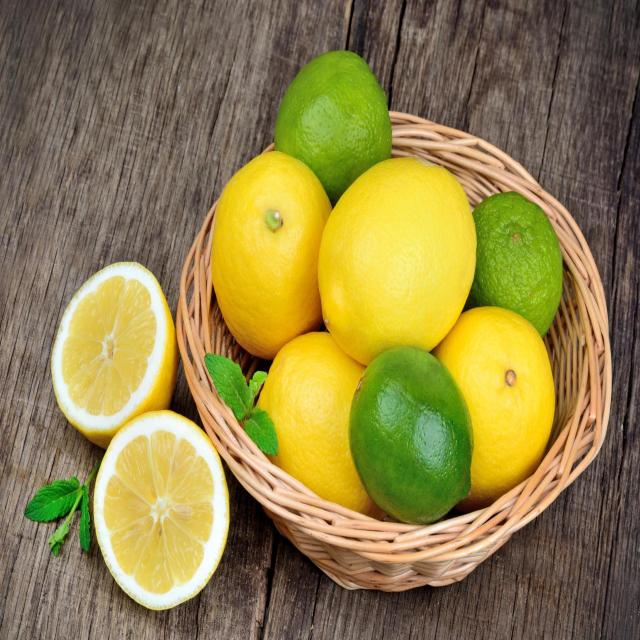lemon: (311, 152, 480, 378), (88, 403, 232, 612), (50, 254, 180, 459)
